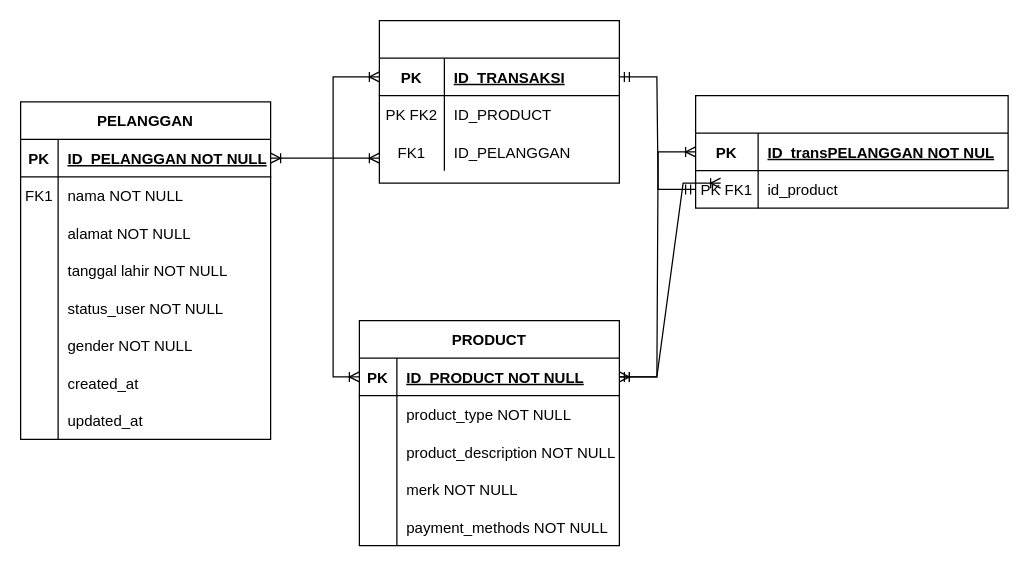
Some shapes in this 1029 by 566 pixel diagram are drawn without their labels. Each missing label, with the box of its shape:
Detail Transaksi: (378, 19, 619, 183)
Transaksi_pelanggan: (694, 94, 1008, 208)
